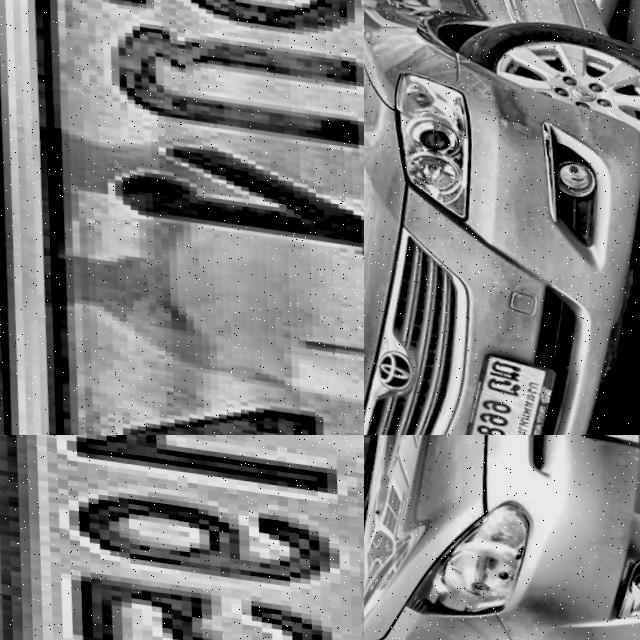license-plate: (0, 0, 364, 435), (0, 435, 364, 640), (446, 335, 557, 435)
